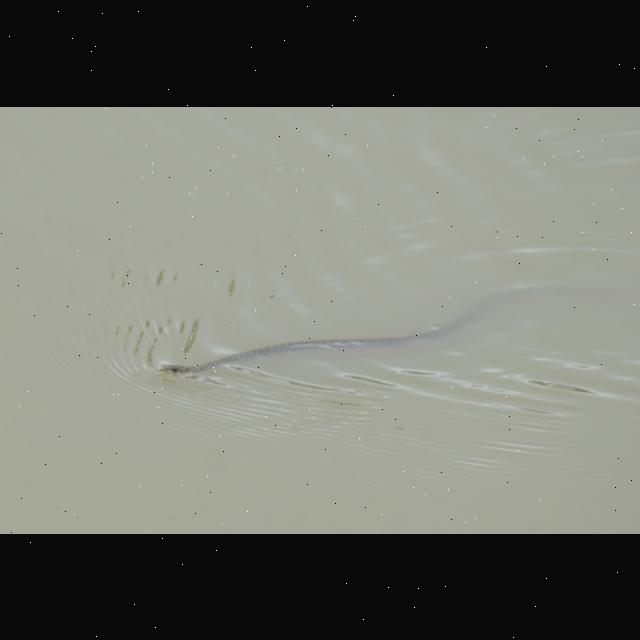snake: (150, 329, 498, 385)
